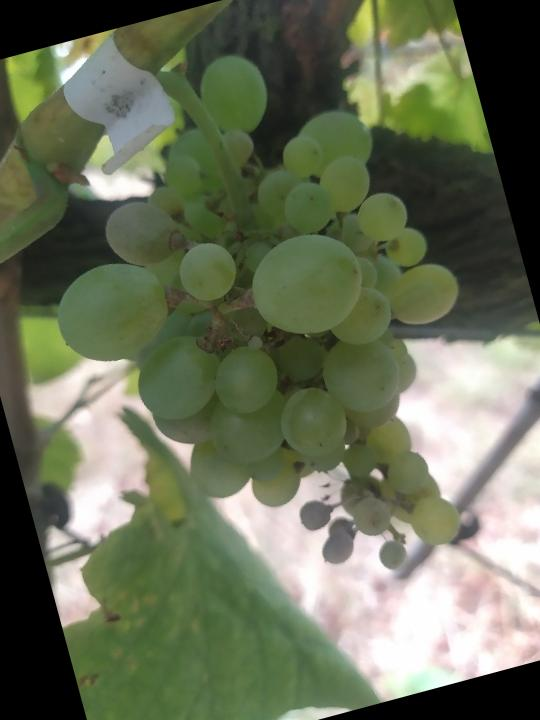grape: (0, 8, 529, 640)
